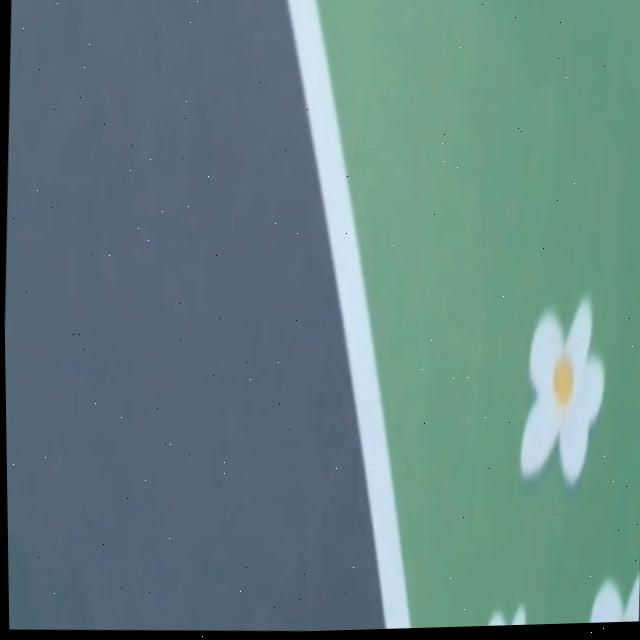right: (286, 0, 409, 629)
